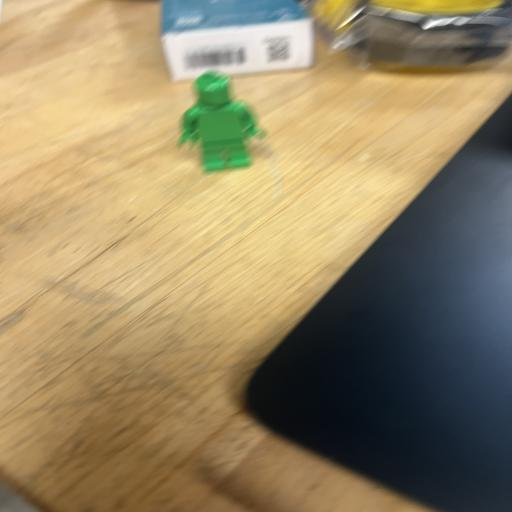green-lego-minifigure-detector: (178, 70, 262, 172)
